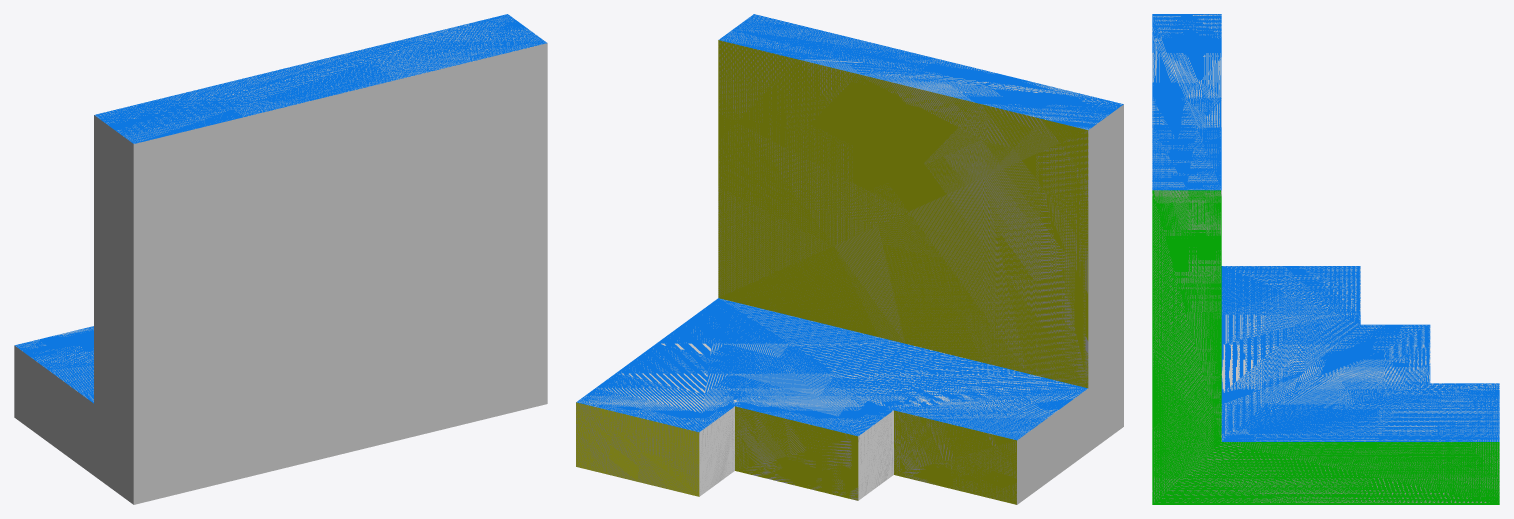
Rendered from Figura9.dae.
3 views of the same model, side by side, from view 1: azimuth 30°, elevation 25°; view 2: azimuth 150°, elevation 25°; view 3: azimuth 270°, elevation 25° (orthographic). The views are drawn at different scales.
Parts seen in each view (by area): view 1: SketchUp (×3); view 2: SketchUp (×9); view 3: SketchUp (×3).
Part boxes in pixels (left/top/right/bottom): SketchUp (×3): left=14, top=14, right=547, bottom=504; SketchUp (×9): left=576, top=14, right=1123, bottom=504; SketchUp (×3): left=1152, top=14, right=1499, bottom=504.
Bounding box in the file's own units: 23.62 × 19.69 × 19.69.
